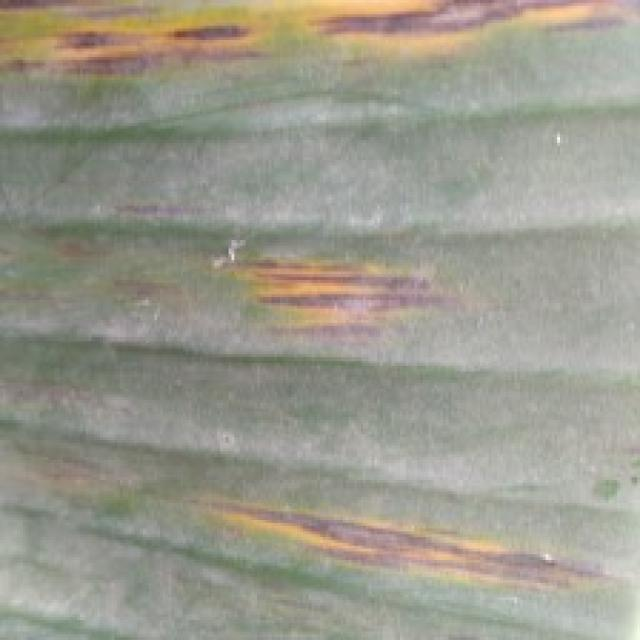Early_leaf_spot: (196, 470, 606, 640), (0, 0, 634, 83), (200, 221, 450, 361)
